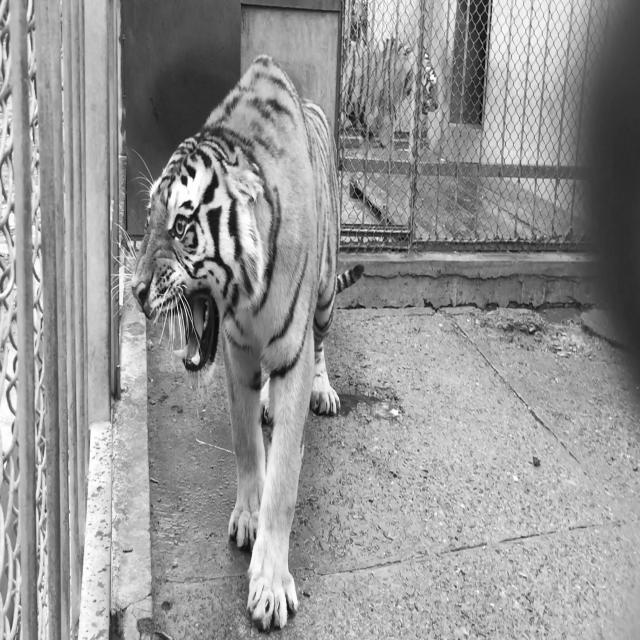Tiger: (108, 51, 362, 632), (340, 35, 438, 152)
